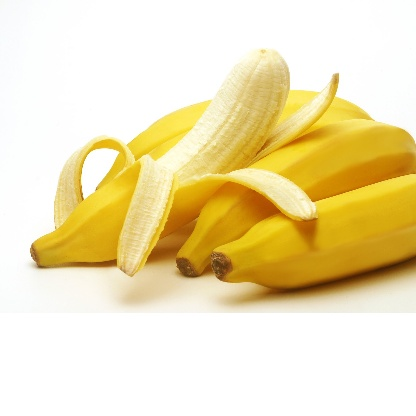chuoi: (28, 54, 412, 301)
